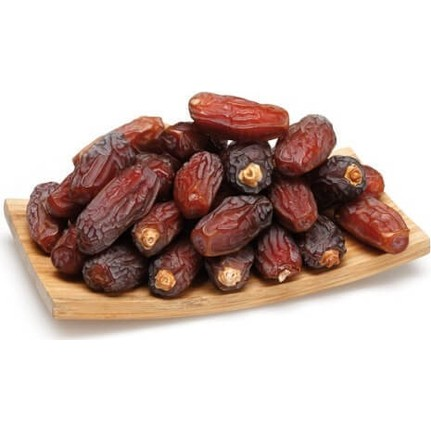hurmaa: (67, 155, 160, 254), (186, 85, 293, 145), (184, 192, 276, 259)
